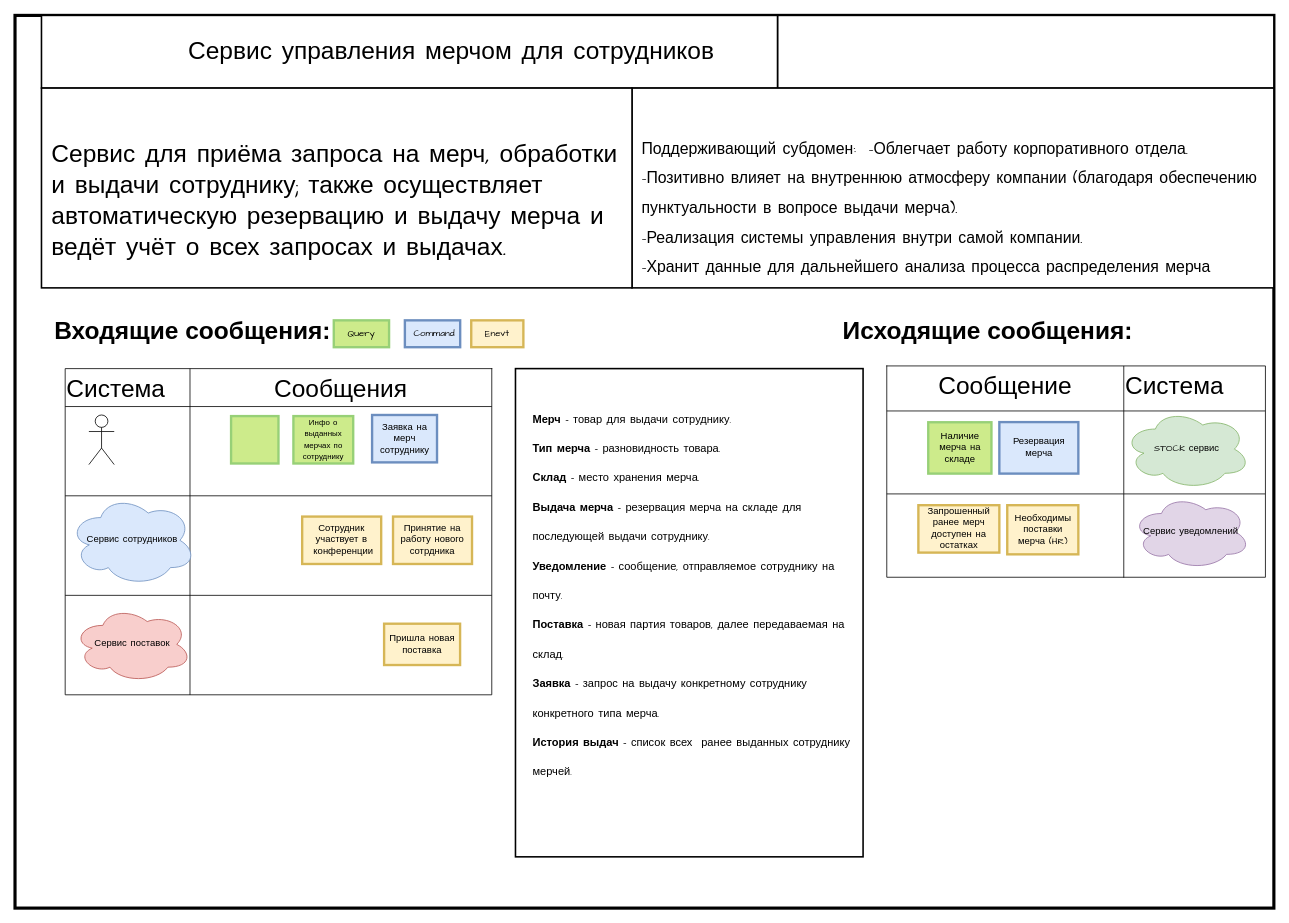
Image size: 1289x923. Some labels were removed from this diagram. Each missing label, with the box of its shape:
Admin: (88, 414, 114, 465)
Bouneded context canvas: (776, 14, 1274, 88)
Ubiquitous Language: (514, 367, 863, 857)
Название:: (40, 14, 778, 88)
Описание:: (40, 87, 632, 288)
Проверка статуса заявки на мерч: (229, 415, 279, 464)
Стратегическая классификация:: (631, 87, 1274, 288)
